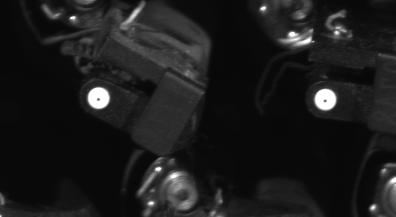fiber: (311, 86, 343, 116), (84, 83, 115, 113)
